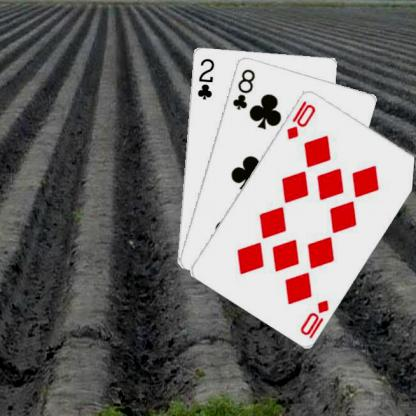10D: (297, 296, 330, 340), (284, 97, 316, 141)
2C: (194, 56, 215, 100)
8C: (230, 66, 256, 110)
